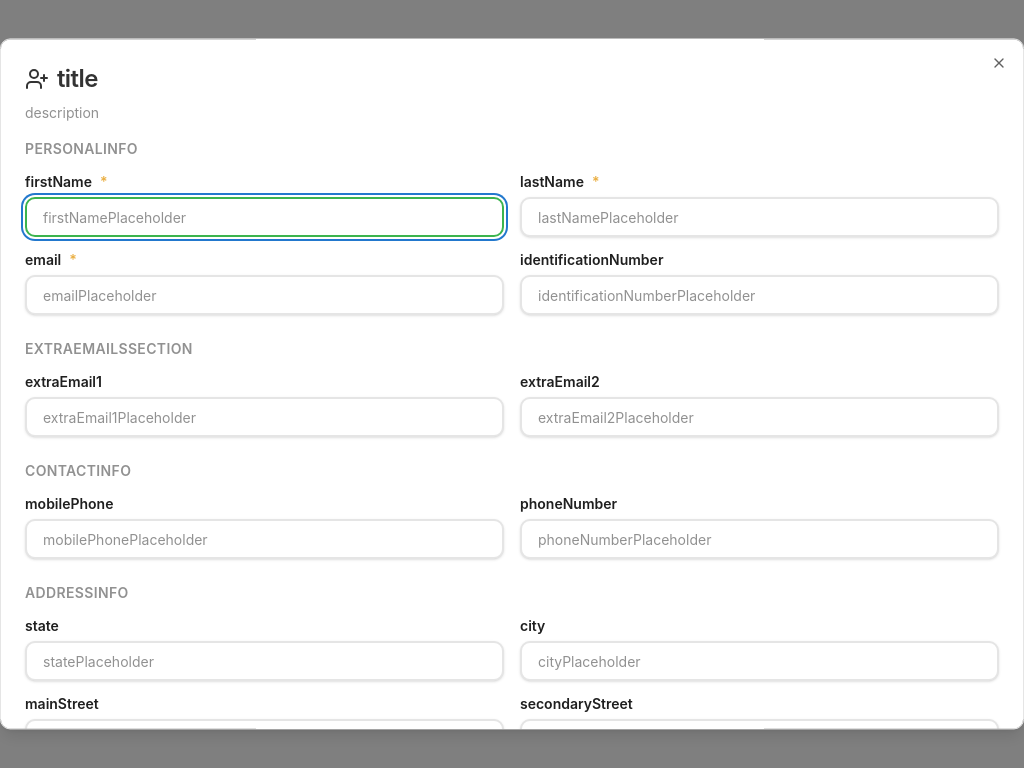
Test case: AddClientDialog › shows validation error for invalid email format
Type "John" into the field labelled "firstName *". click: {"x": 264, "y": 217}
box: top-left (25, 197), bottom-right (504, 237)
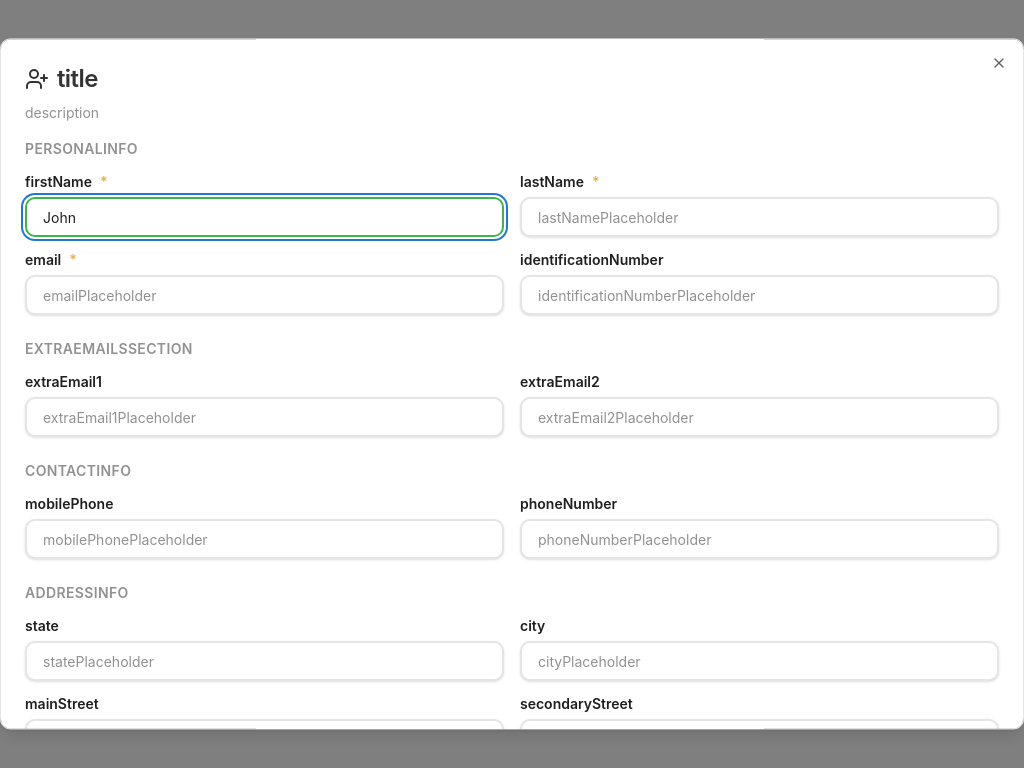
Type "Doe" into the field labelled "lastName *". click: {"x": 760, "y": 217}
box: top-left (520, 197), bottom-right (999, 237)
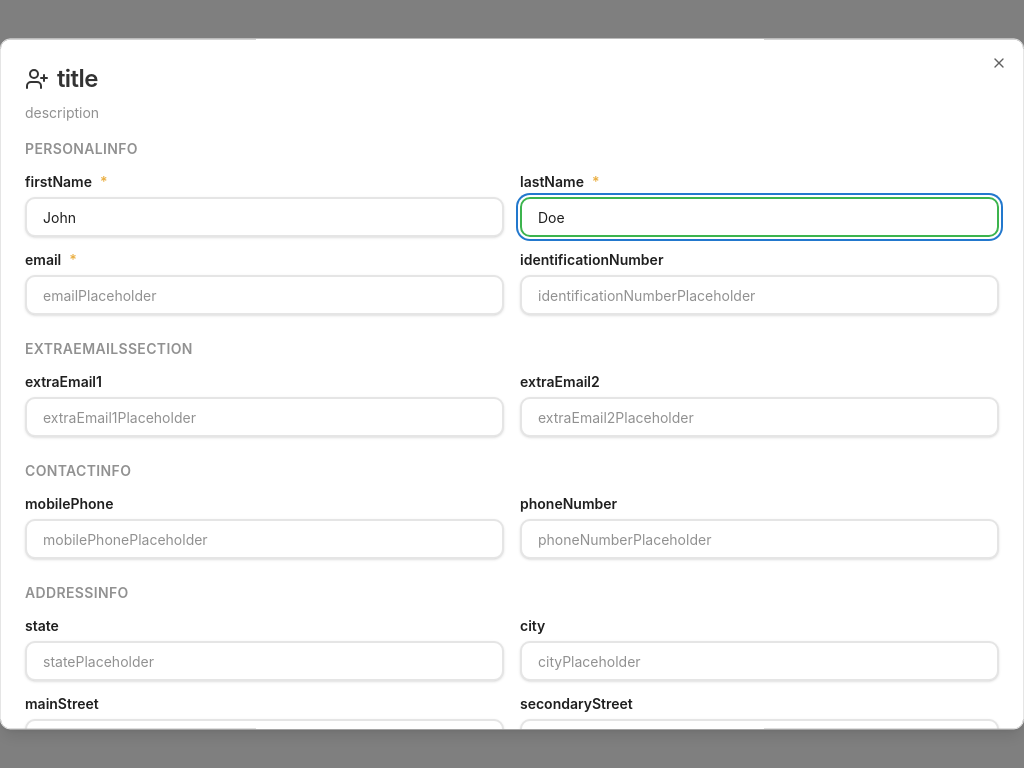
Type "user@domain" into the field labelled "email *". click: {"x": 264, "y": 295}
box: top-left (25, 275), bottom-right (504, 315)
(page scrolled)
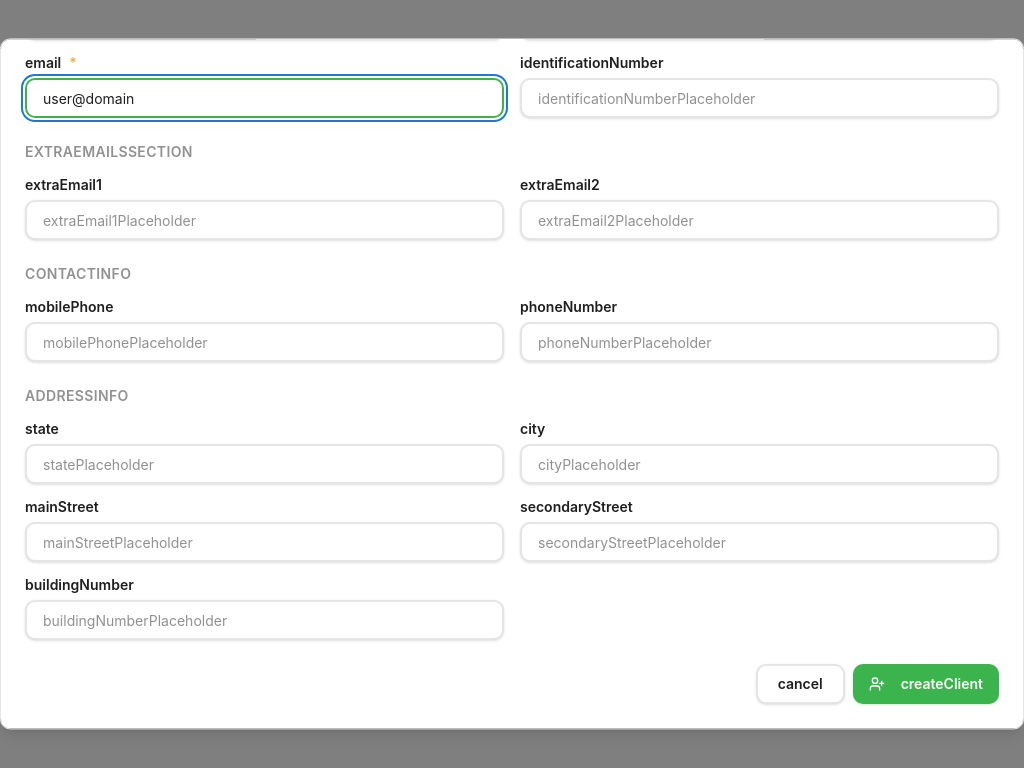
Click the button "createClient". click: {"x": 926, "y": 684}
box: top-left (853, 664), bottom-right (999, 704)
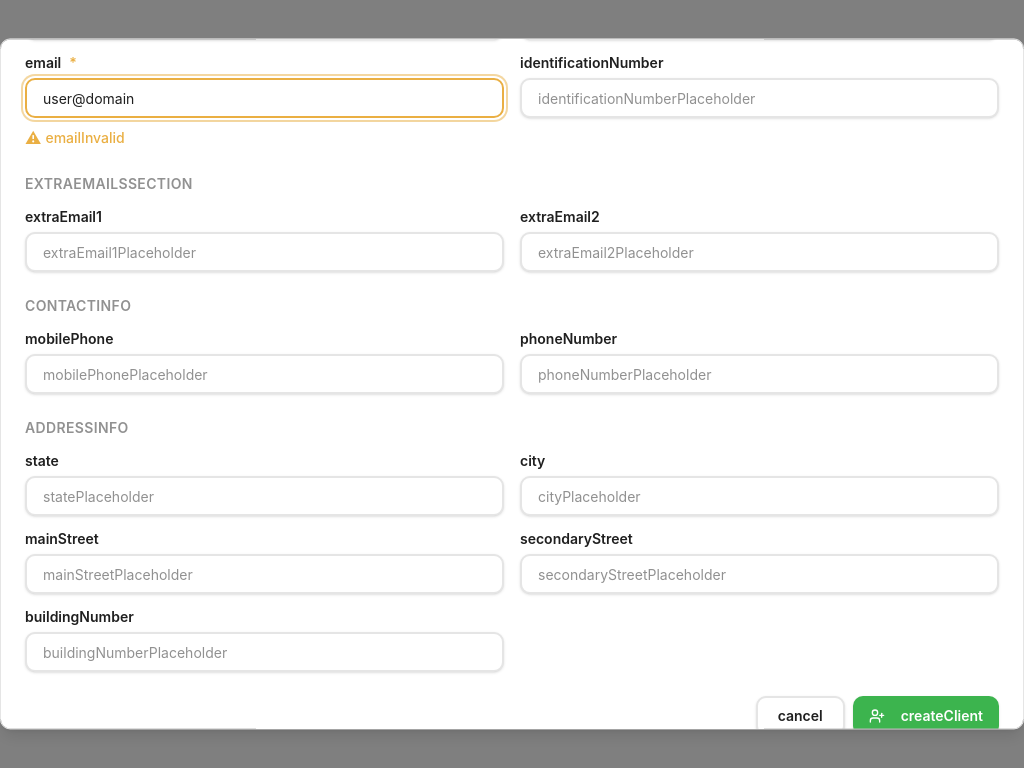
Check: the text "emailInvalid" is shown, box top-left (45, 129), bottom-right (125, 146)
